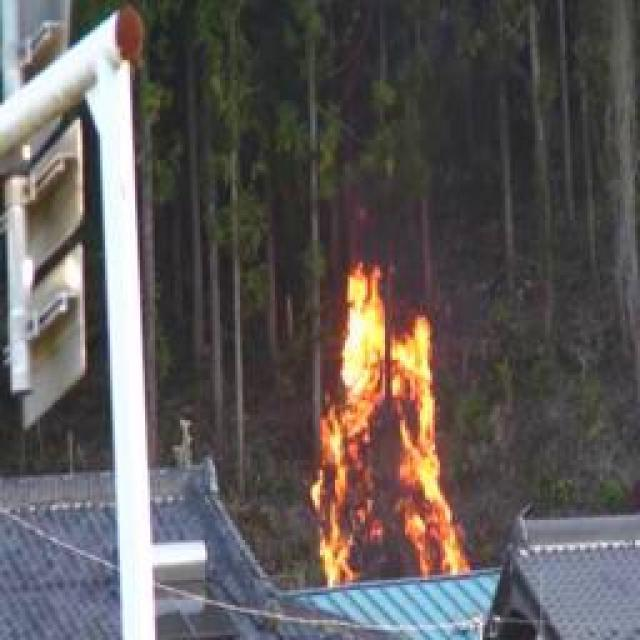Fire: (303, 258, 467, 575)
